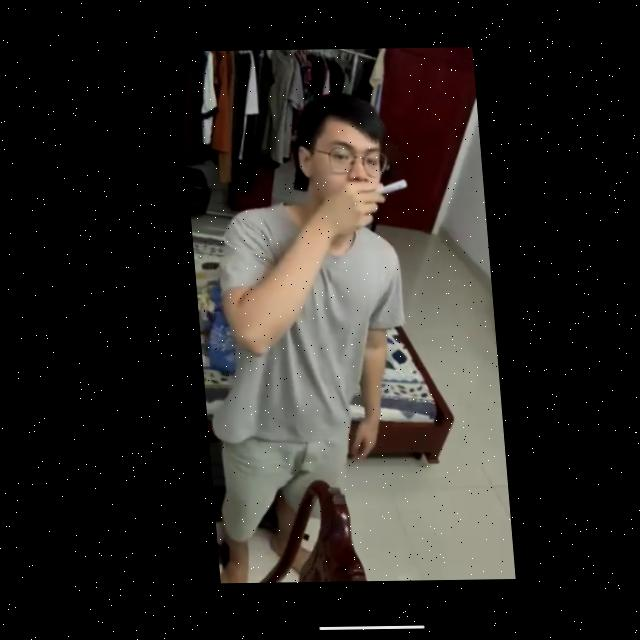cigarette: (370, 180, 405, 195)
